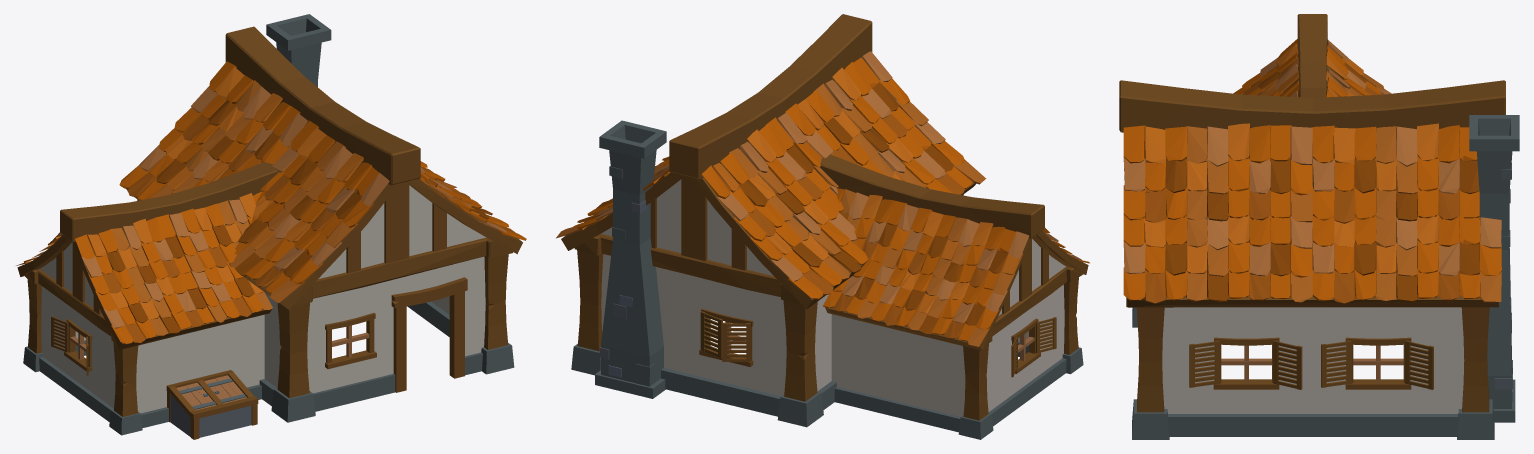
File: House_03.fbx
3 renders of one model, left to right at view 1: azimuth 30°, elevation 25°; view 2: azimuth 150°, elevation 25°; view 3: azimuth 270°, elevation 25°, orthographic. The views are drawn at different scales.
Parts seen in each view (by area): view 1: House_03; view 2: House_03; view 3: House_03.
Part boxes in pixels (box(x1,y1,x2,y2)): House_03: box(16, 14, 526, 439); House_03: box(556, 14, 1089, 439); House_03: box(1119, 14, 1519, 439).
Size of the model in its own units: 886 by 547 by 688.
